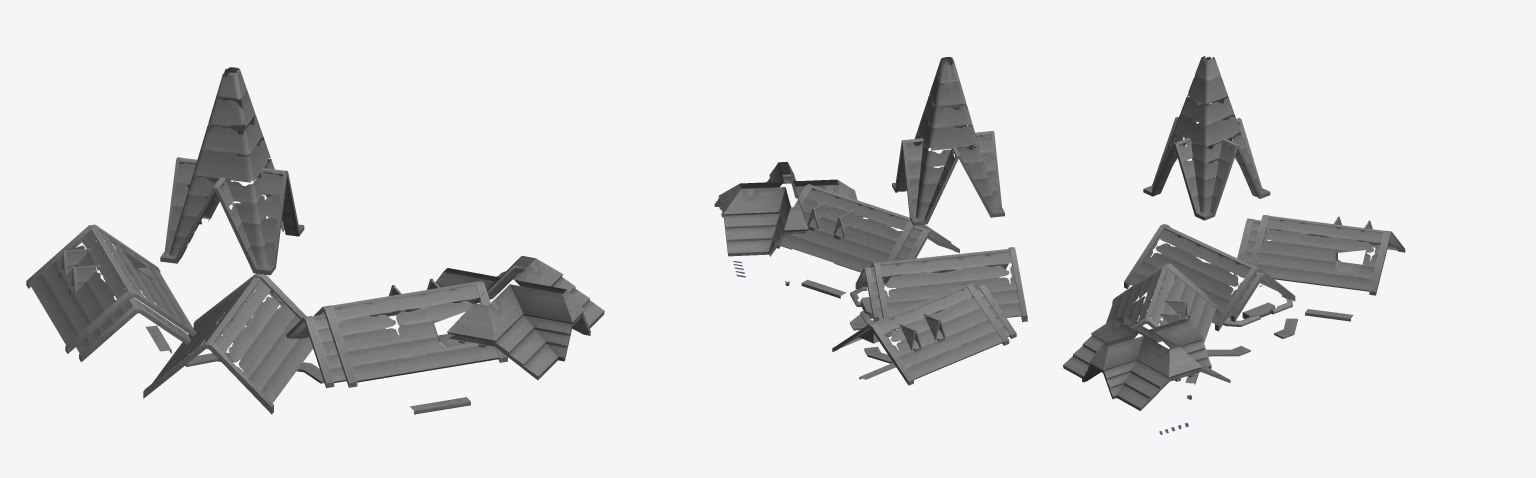
The model's file is pref_sm_garden_house_vertexcolor01_lv0.fbx.
3 views of the same model, side by side, from view 1: azimuth 30°, elevation 25°; view 2: azimuth 150°, elevation 25°; view 3: azimuth 270°, elevation 25° (orthographic). The views are drawn at different scales.
Visible parts, largest first — view 1: pref_sm_garden_house_vertexcolor01_lv0; view 2: pref_sm_garden_house_vertexcolor01_lv0; view 3: pref_sm_garden_house_vertexcolor01_lv0.
Part boxes in pixels (left/top/right/bottom): pref_sm_garden_house_vertexcolor01_lv0: left=26, top=67, right=604, bottom=414; pref_sm_garden_house_vertexcolor01_lv0: left=714, top=57, right=1027, bottom=385; pref_sm_garden_house_vertexcolor01_lv0: left=1063, top=56, right=1405, bottom=434.
Size of the model in its own units: 26.73 by 21.39 by 28.45.
